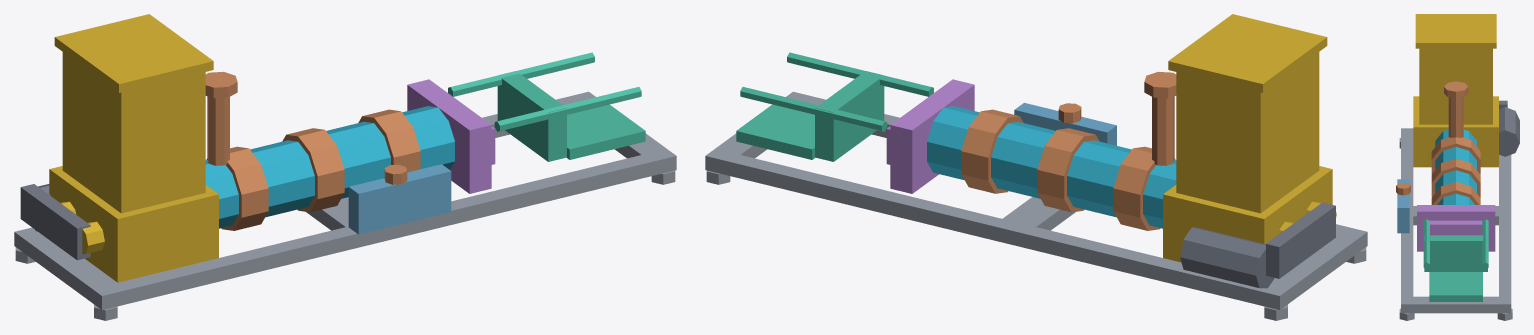
File: stage-1.gltf
3 views of the same model, side by side, from view 1: azimuth 30°, elevation 25°; view 2: azimuth 150°, elevation 25°; view 3: azimuth 270°, elevation 25° (orthographic). The views are drawn at different scales.
Parts seen in each view (by area): view 1: SYS-BCA-STAGE-1; view 2: SYS-BCA-STAGE-1; view 3: SYS-BCA-STAGE-1.
Boxes of the visible parts, <box> form: SYS-BCA-STAGE-1: <box>14,14,676,320</box>; SYS-BCA-STAGE-1: <box>705,14,1367,320</box>; SYS-BCA-STAGE-1: <box>1396,14,1519,320</box>.
Size of the model in its own units: 344 by 125 by 101.
